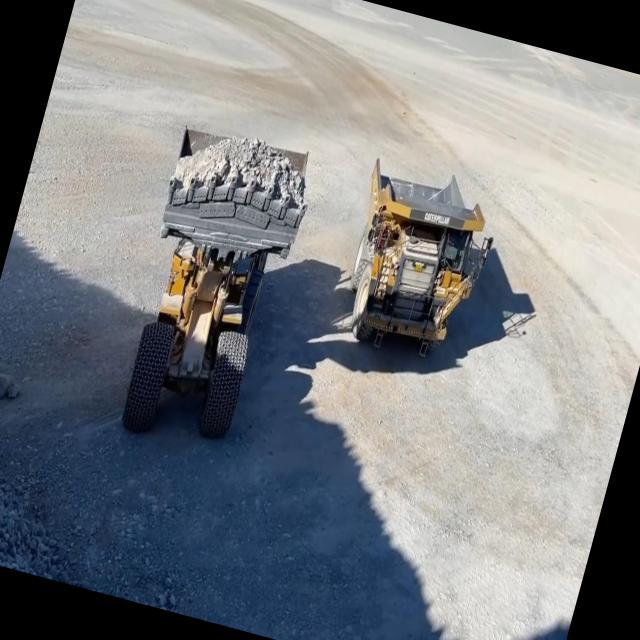Camion volquete: (320, 144, 512, 382)
pala cargadora: (95, 110, 328, 468)
